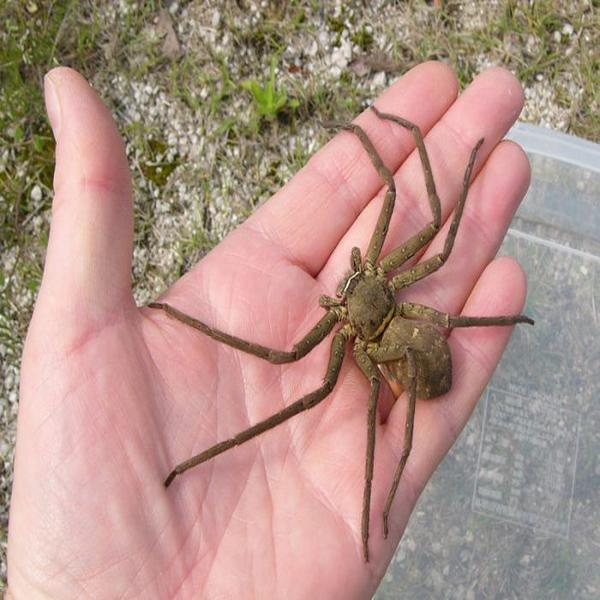Huntsman Spider: (146, 110, 533, 555)
